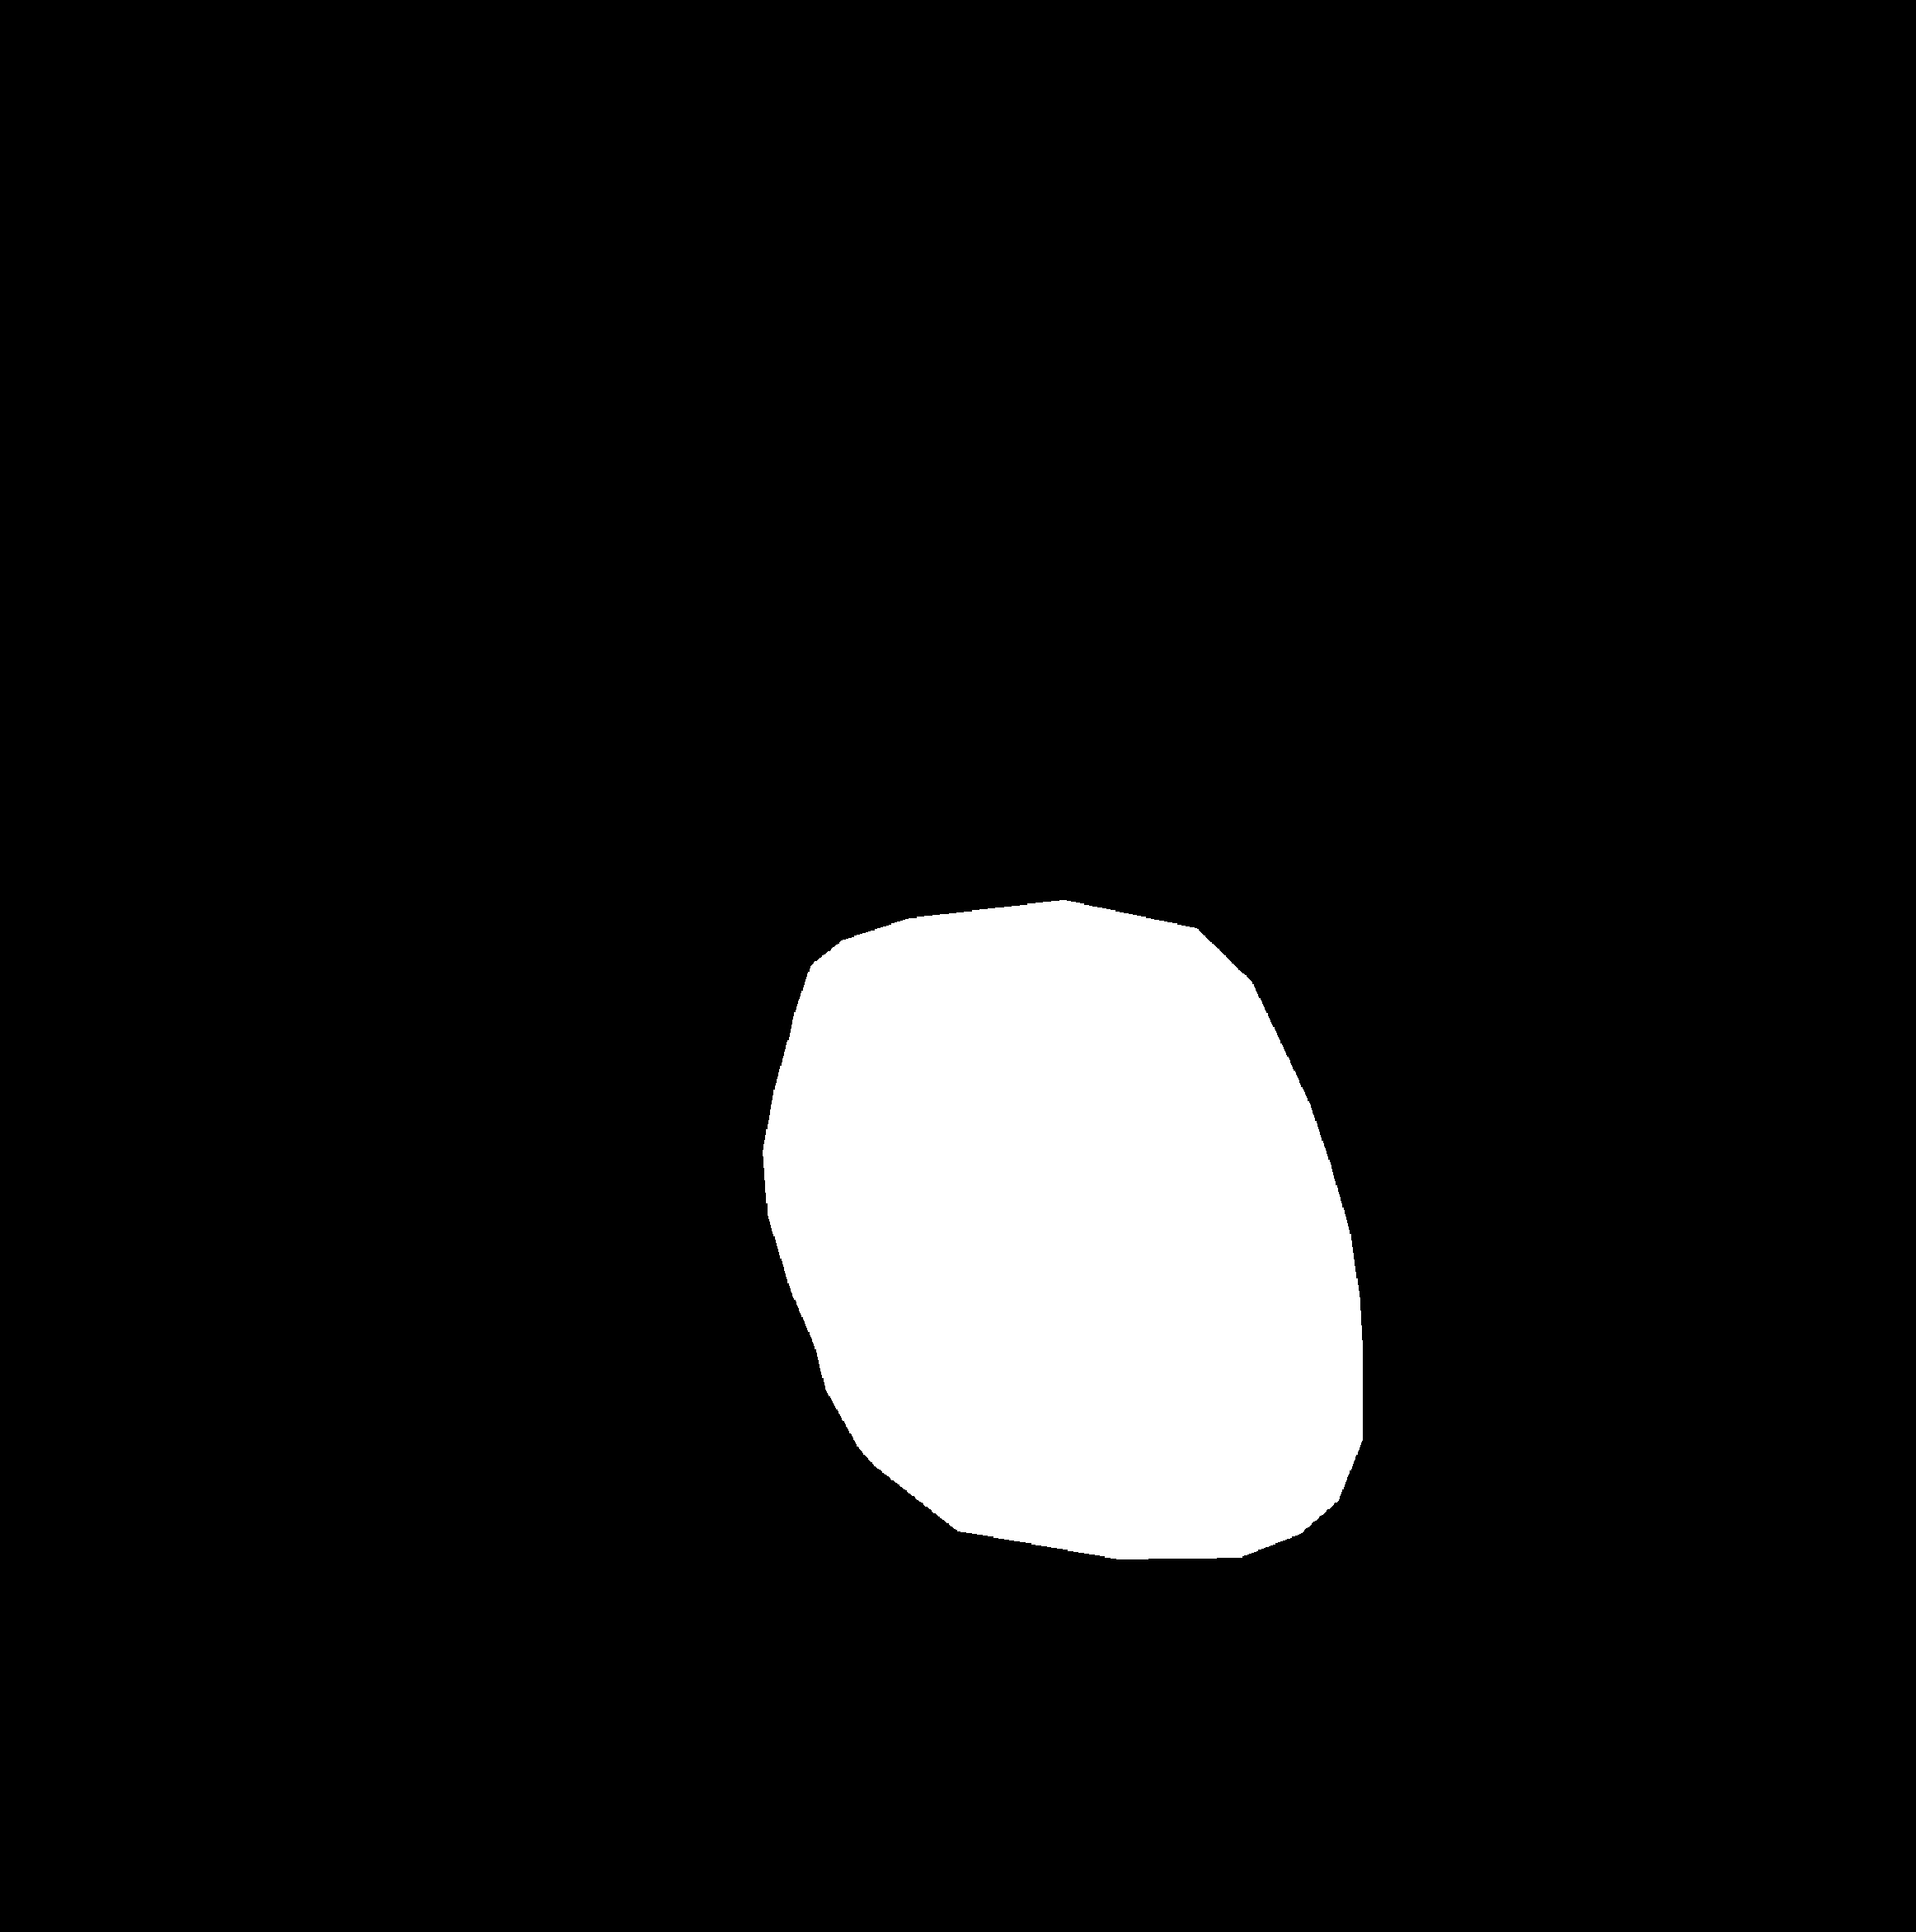heart: (772, 948, 1365, 1530)
left_lung: (263, 146, 872, 1827)
right_lung: (998, 104, 1683, 1776)
